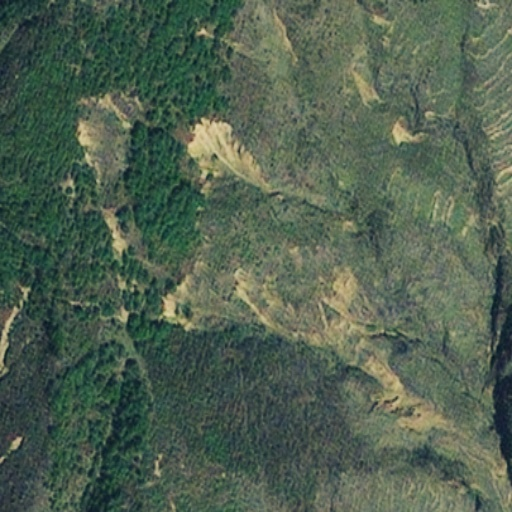landslide: (165, 258, 362, 351), (76, 94, 140, 256), (188, 117, 269, 194)
